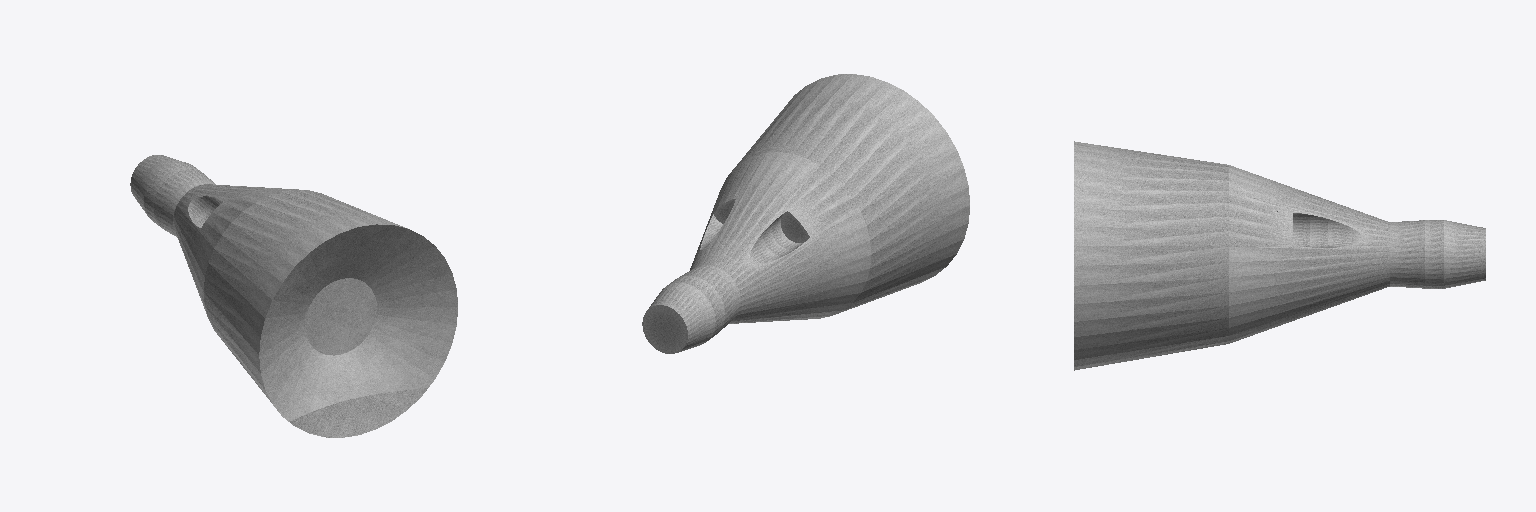
3 views of the same model, side by side, from view 1: azimuth 30°, elevation 25°; view 2: azimuth 150°, elevation 25°; view 3: azimuth 270°, elevation 25° (orthographic).
Visible parts, largest first — view 1: Shape_IndexedFaceSet.033_Shape_IndexedFaceSet.067, Shape_IndexedFaceSet.032_Shape_IndexedFaceSet.066, Shape_IndexedFaceSet.031_Shape_IndexedFaceSet.065; view 2: Shape_IndexedFaceSet.032_Shape_IndexedFaceSet.066, Shape_IndexedFaceSet.031_Shape_IndexedFaceSet.065, Shape_IndexedFaceSet.033_Shape_IndexedFaceSet.067; view 3: Shape_IndexedFaceSet.032_Shape_IndexedFaceSet.066, Shape_IndexedFaceSet.031_Shape_IndexedFaceSet.065, Shape_IndexedFaceSet.033_Shape_IndexedFaceSet.067.
Boxes of the visible parts, x1=… form: Shape_IndexedFaceSet.033_Shape_IndexedFaceSet.067: x1=188, y1=196, x2=457, y2=437; Shape_IndexedFaceSet.032_Shape_IndexedFaceSet.066: x1=204, y1=190, x2=407, y2=402; Shape_IndexedFaceSet.031_Shape_IndexedFaceSet.065: x1=130, y1=155, x2=298, y2=316; Shape_IndexedFaceSet.032_Shape_IndexedFaceSet.066: x1=736, y1=74, x2=969, y2=314; Shape_IndexedFaceSet.031_Shape_IndexedFaceSet.065: x1=642, y1=152, x2=870, y2=353; Shape_IndexedFaceSet.033_Shape_IndexedFaceSet.067: x1=700, y1=199, x2=809, y2=263; Shape_IndexedFaceSet.032_Shape_IndexedFaceSet.066: x1=1074, y1=141, x2=1228, y2=370; Shape_IndexedFaceSet.031_Shape_IndexedFaceSet.065: x1=1229, y1=165, x2=1485, y2=343; Shape_IndexedFaceSet.033_Shape_IndexedFaceSet.067: x1=1293, y1=213, x2=1361, y2=247.
Size of the model in its own units: 0.6644 by 0.6645 by 1.19.
Materials: 3 (1 with a texture image).